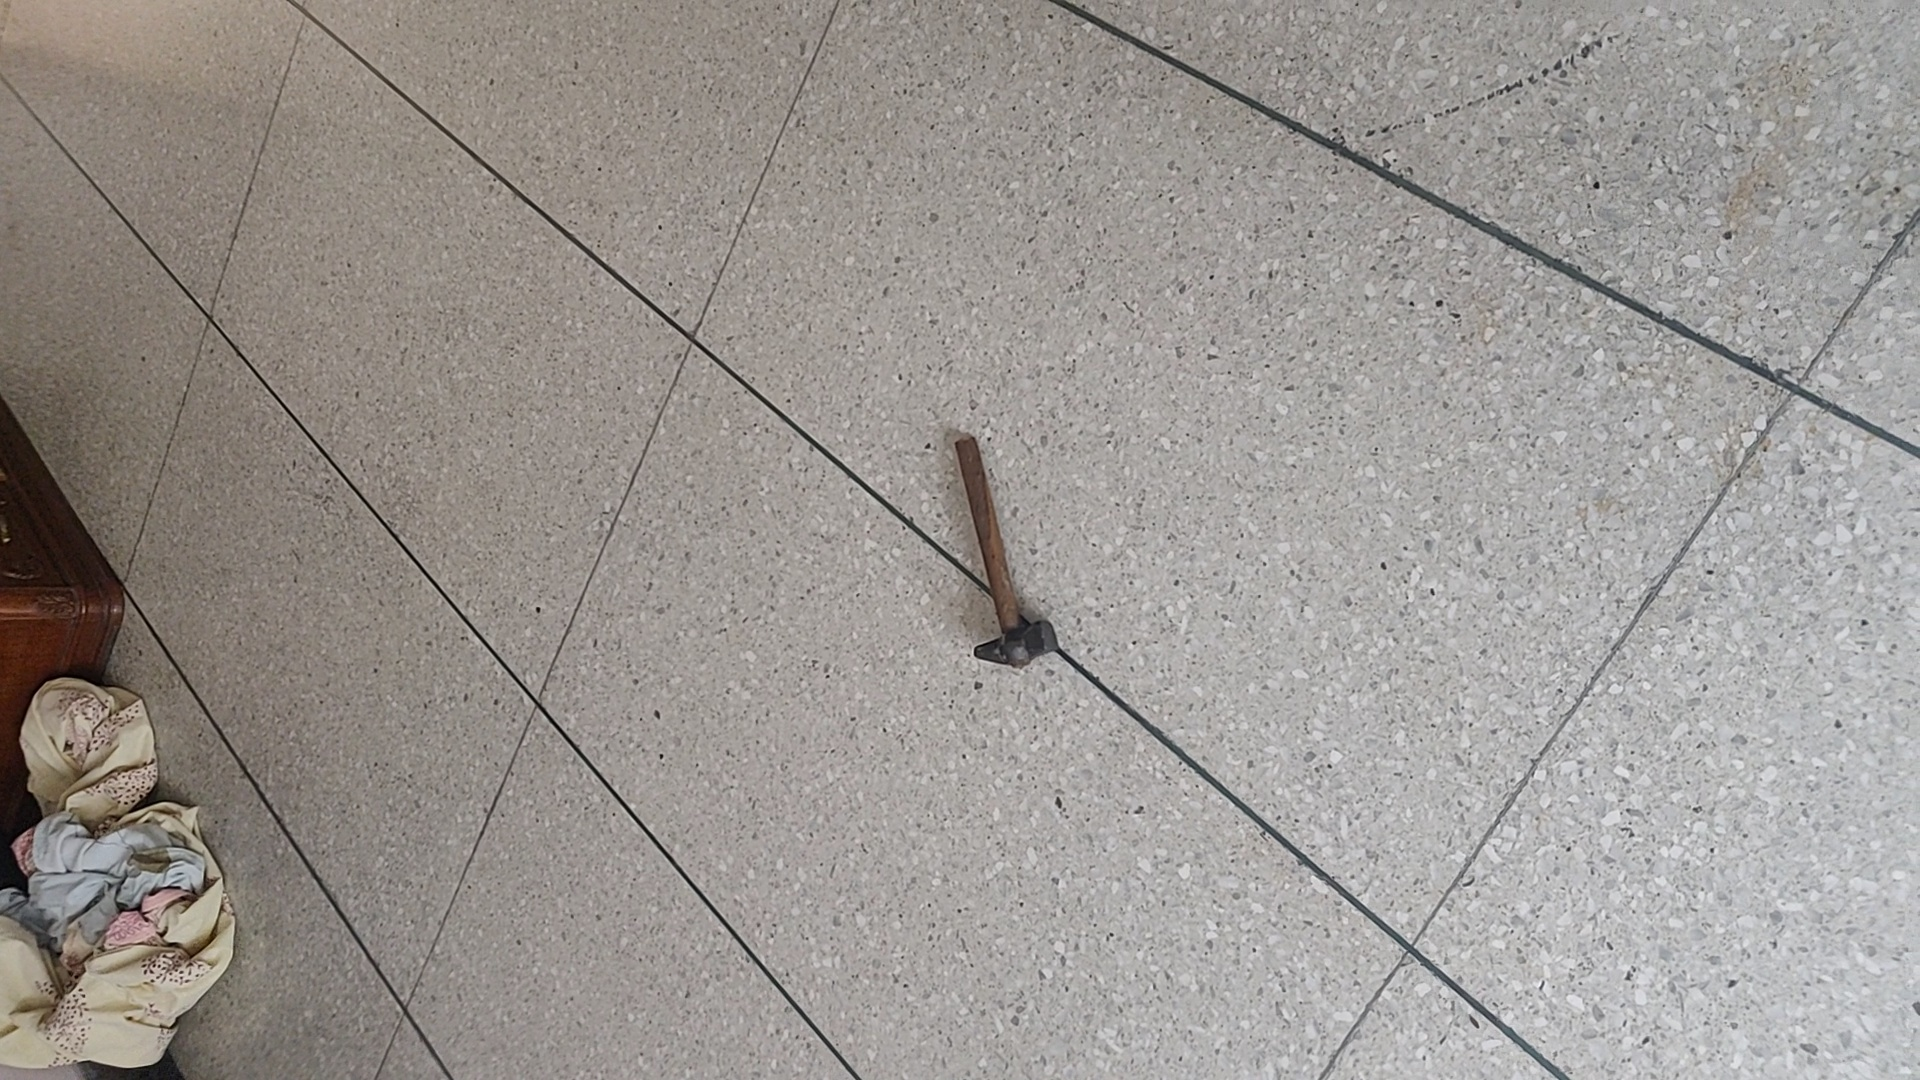hammer: (953, 433, 1063, 669)
